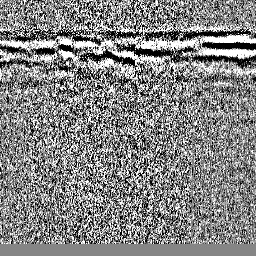cavity: (121, 50, 136, 71)
